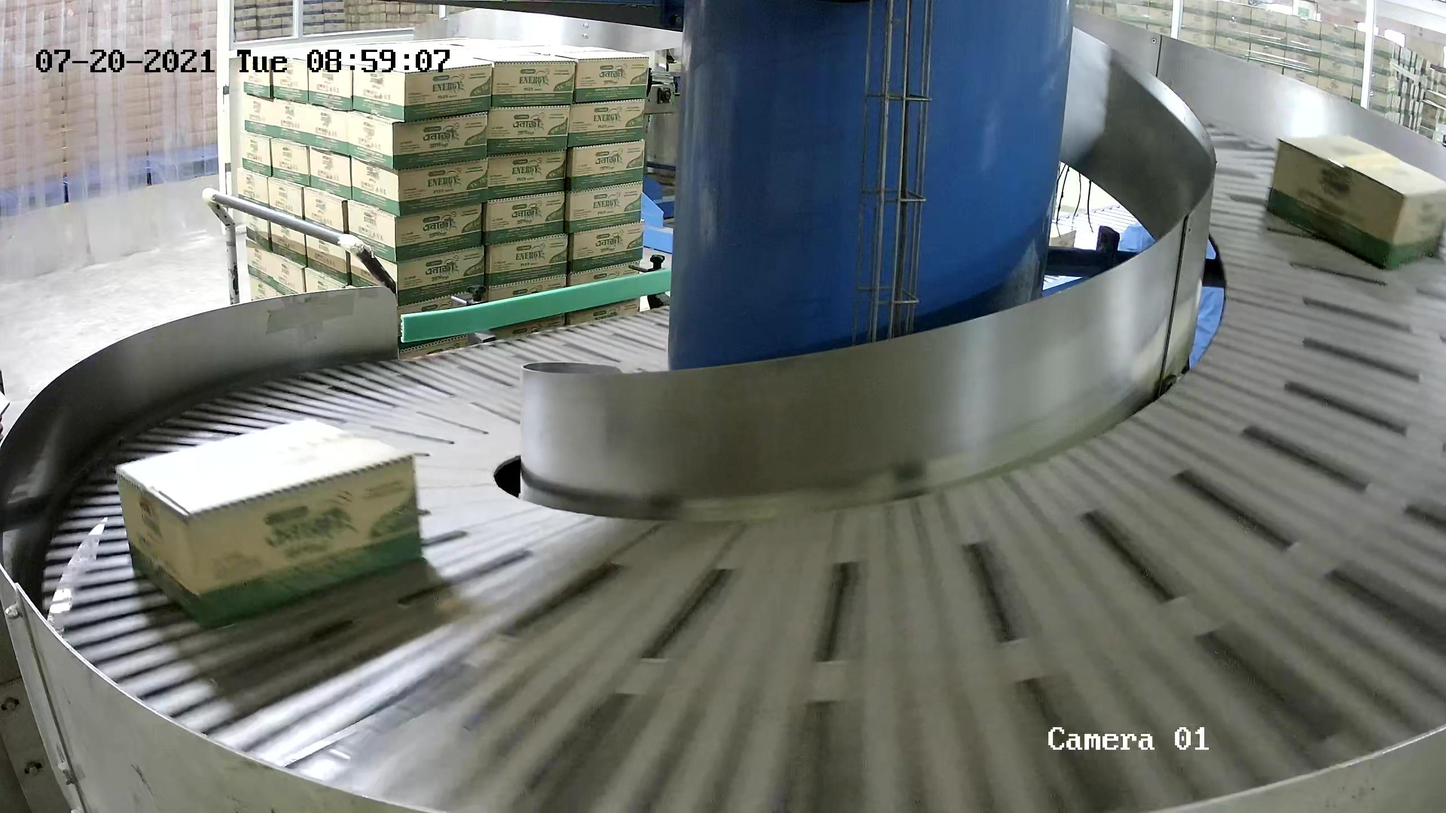Box: (113, 415, 424, 629), (1266, 133, 1446, 272)
